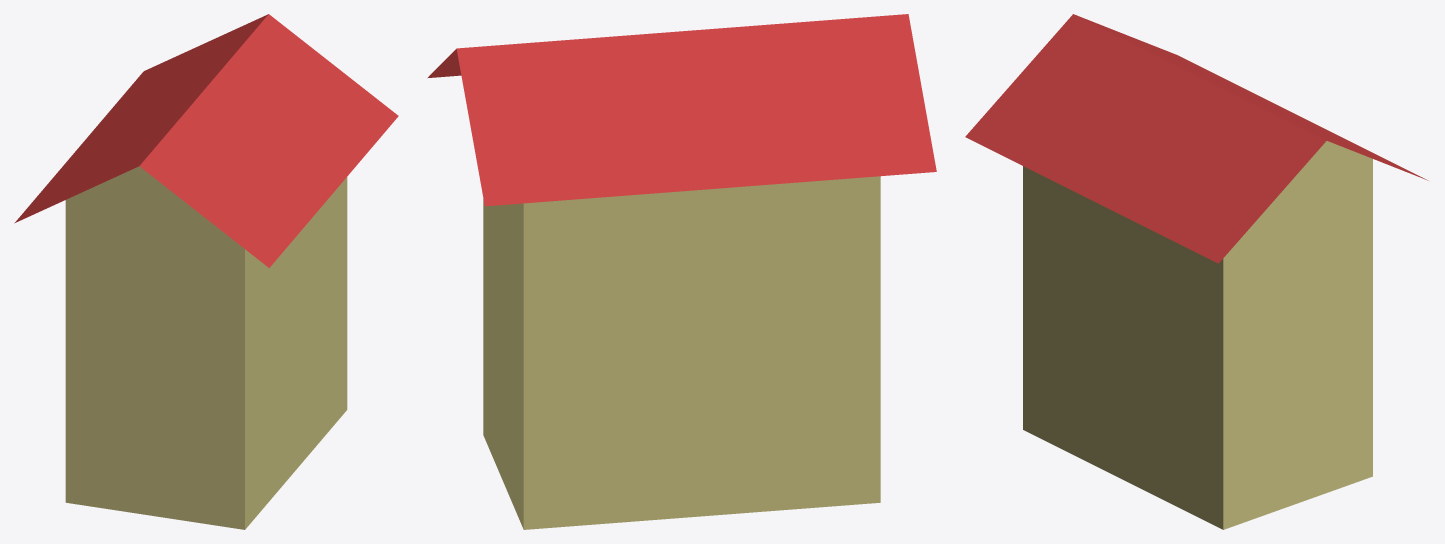
3 renders of one model, left to right at view 1: azimuth 30°, elevation 25°; view 2: azimuth 150°, elevation 25°; view 3: azimuth 270°, elevation 25°, orthographic. The views are drawn at different scales.
Size of the model in its own units: 11.62 by 11.3 by 10.04.
